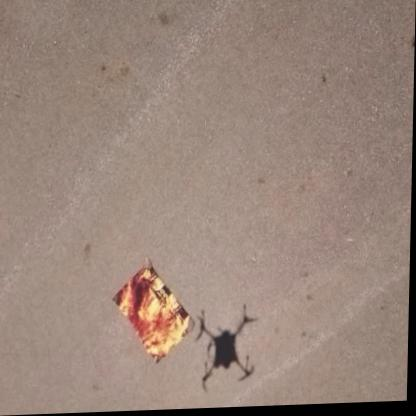fire-poster: (112, 257, 198, 368)
